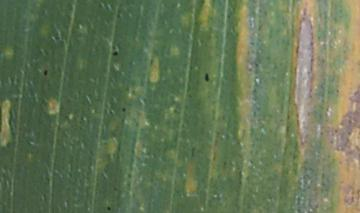tarspot: (202, 69, 212, 84), (105, 204, 114, 213), (42, 68, 50, 78), (111, 49, 119, 56), (121, 106, 128, 114)
